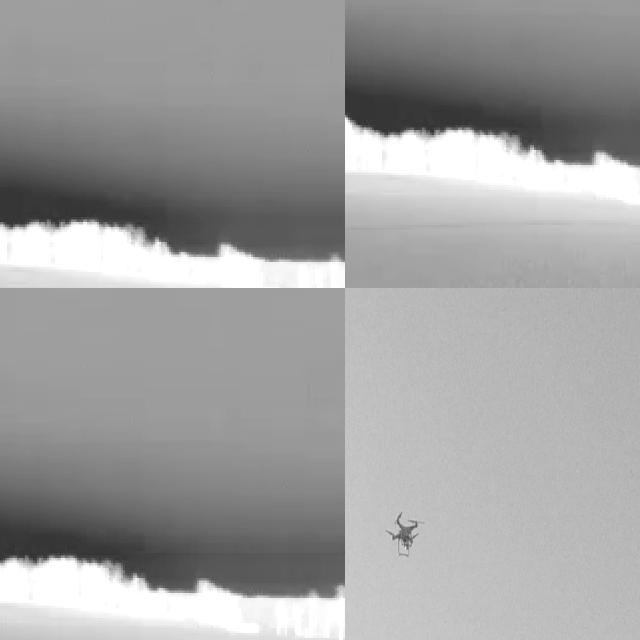drone: (386, 506, 424, 557)
